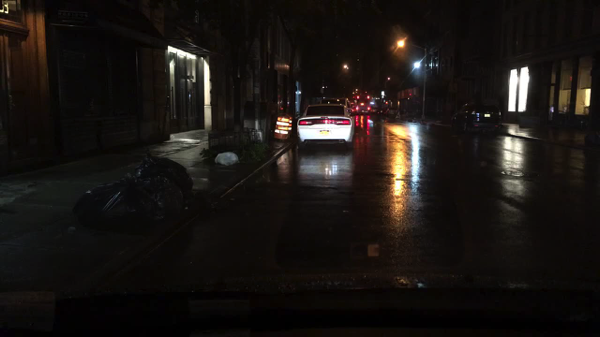car: (295, 103, 353, 151), (448, 100, 503, 138), (319, 97, 351, 113), (355, 99, 373, 114)
